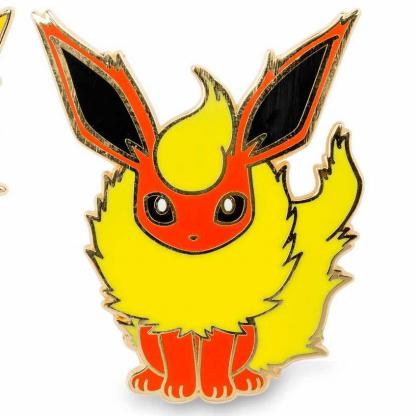Flareon: (30, 3, 383, 407)
